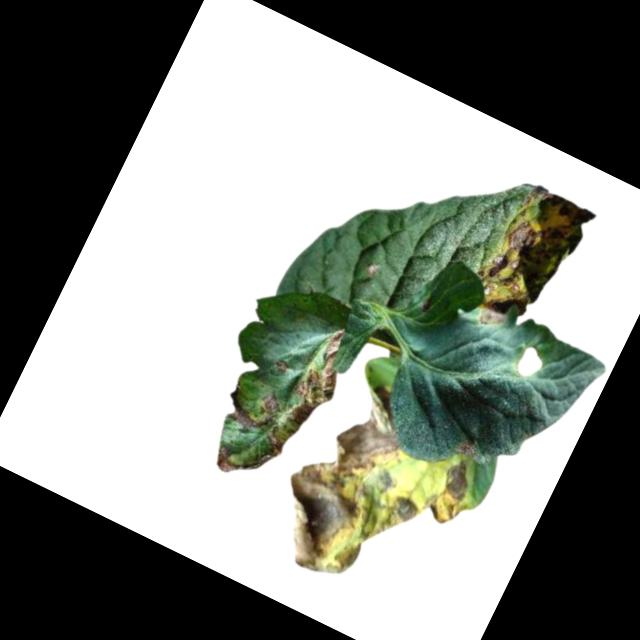Early_blight: (256, 363, 462, 601), (460, 177, 597, 347), (283, 323, 360, 435), (421, 451, 487, 531), (220, 391, 278, 435), (250, 425, 290, 478), (209, 444, 253, 483), (257, 388, 287, 419), (452, 433, 483, 462), (273, 356, 292, 376)
